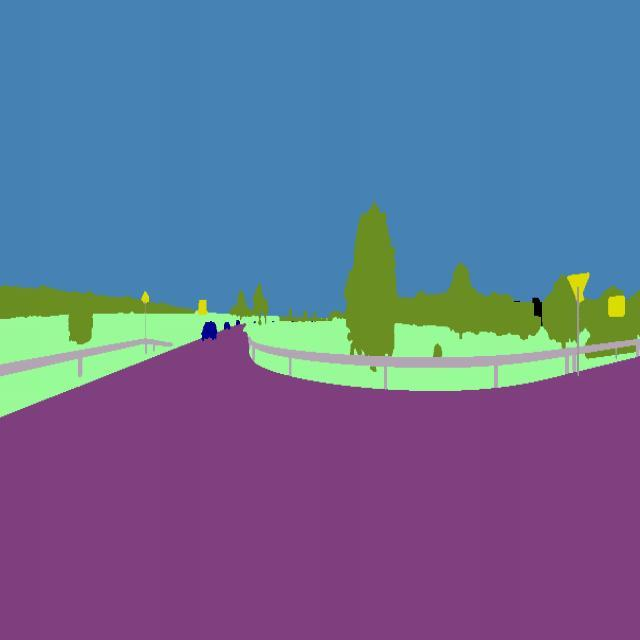safe: (196, 316, 223, 346)
